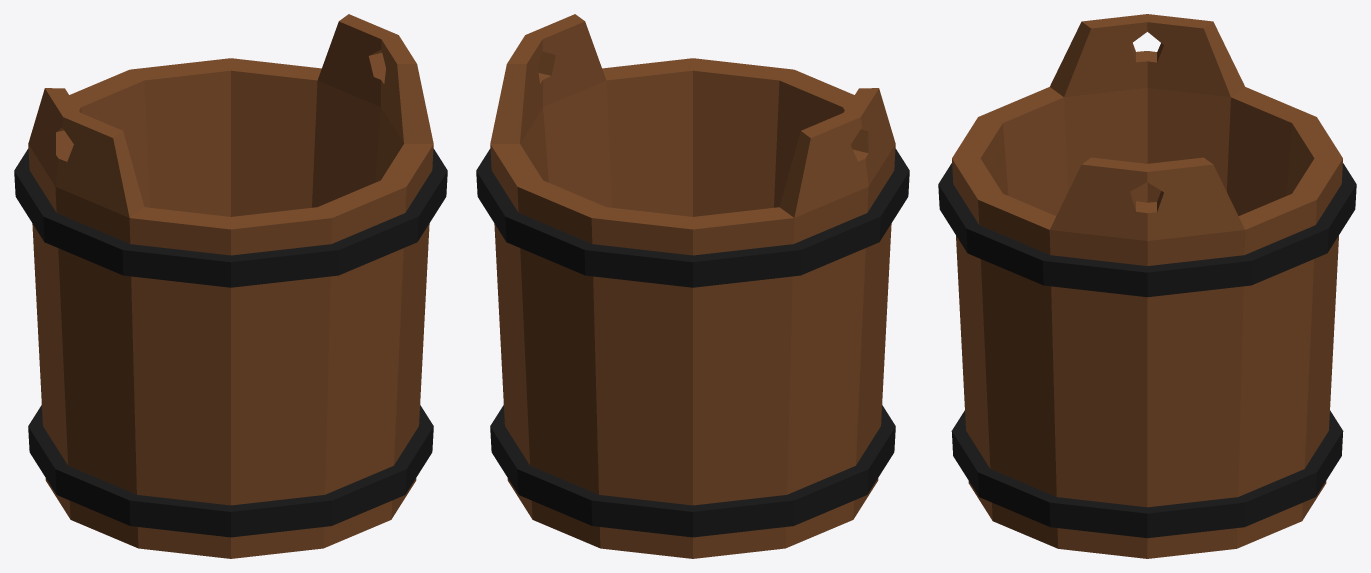
The model's file is ww_bucket.glb.
The picture shows the model from 3 angles, left to right: view 1: azimuth 30°, elevation 25°; view 2: azimuth 150°, elevation 25°; view 3: azimuth 270°, elevation 25°; orthographic projection. The views are drawn at different scales.
Parts seen in each view (by area): view 1: Bucket; view 2: Bucket; view 3: Bucket.
Boxes of the visible parts, x1=… form: Bucket: x1=14, y1=14, x2=447, y2=558; Bucket: x1=476, y1=14, x2=909, y2=558; Bucket: x1=938, y1=14, x2=1356, y2=558.
Size of the model in its own units: 0.624 by 0.6424 by 0.624.
